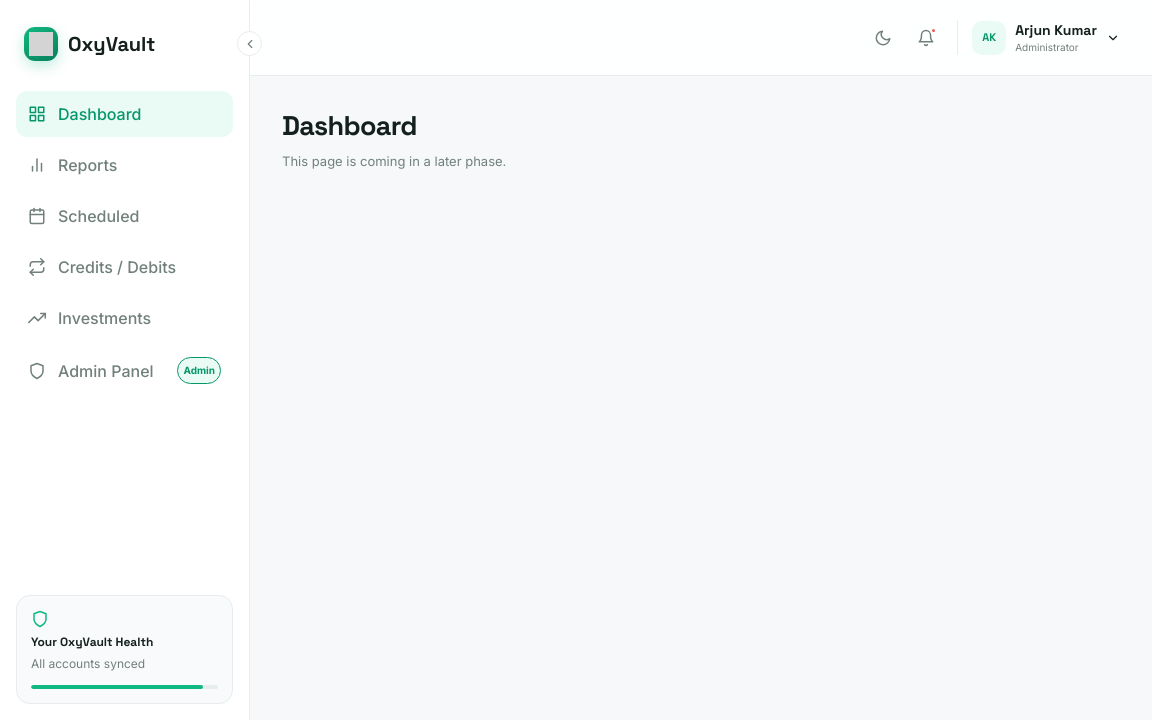
Scenario: App routing › reaches Settings from the profile menu
This screenshot has width=1152, height=720.
Click the button with aria-label "Account menu" at {"x": 1039, "y": 38}, box left=957, top=20, right=1120, bottom=55
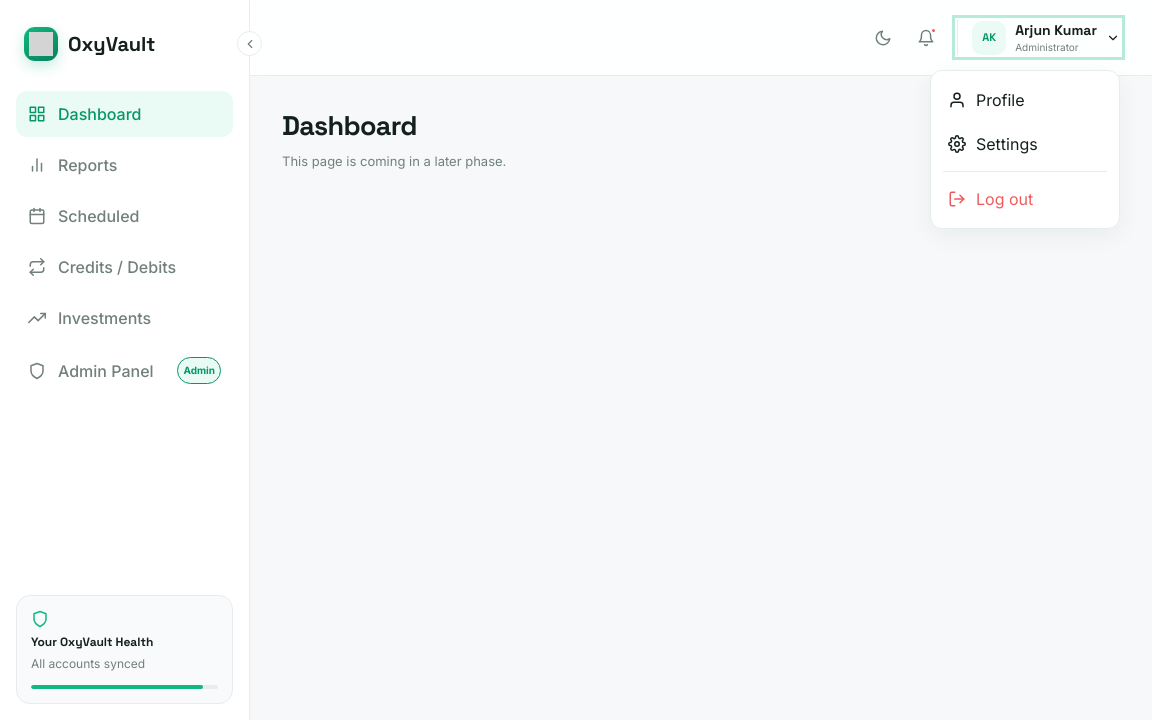
Click the menu item "Settings" at {"x": 993, "y": 144}, box left=948, top=134, right=1038, bottom=154
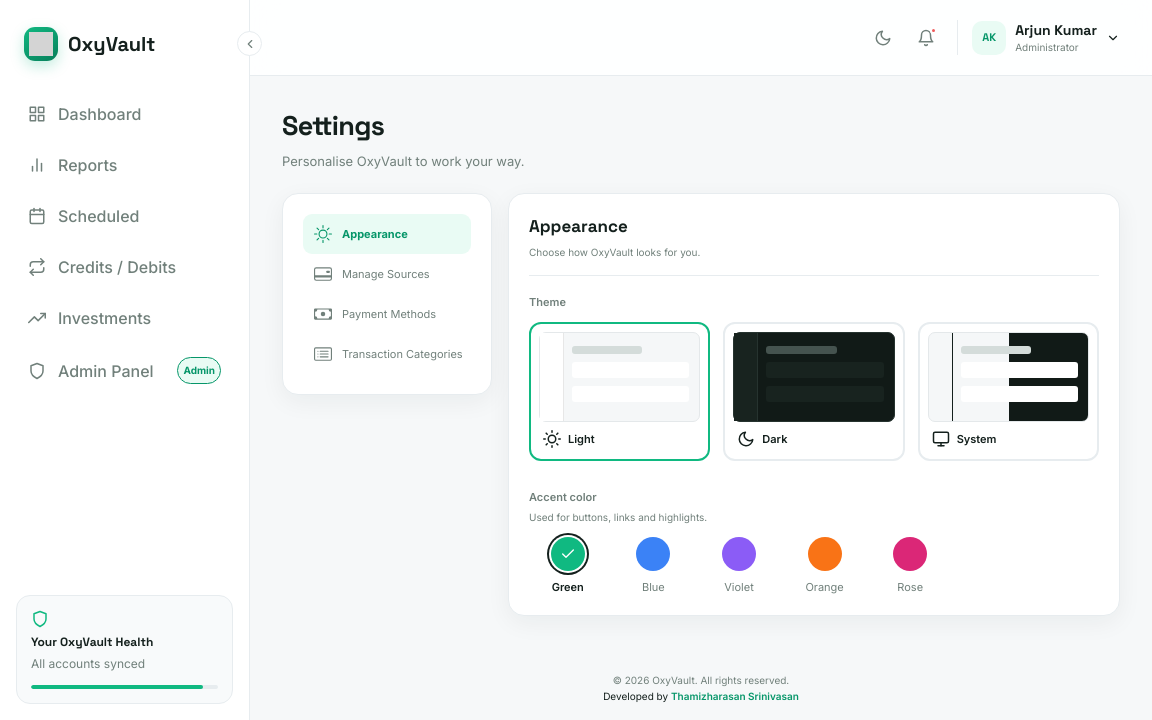
Expected: the heading "Settings" is shown, left=282, top=108, right=384, bottom=143
